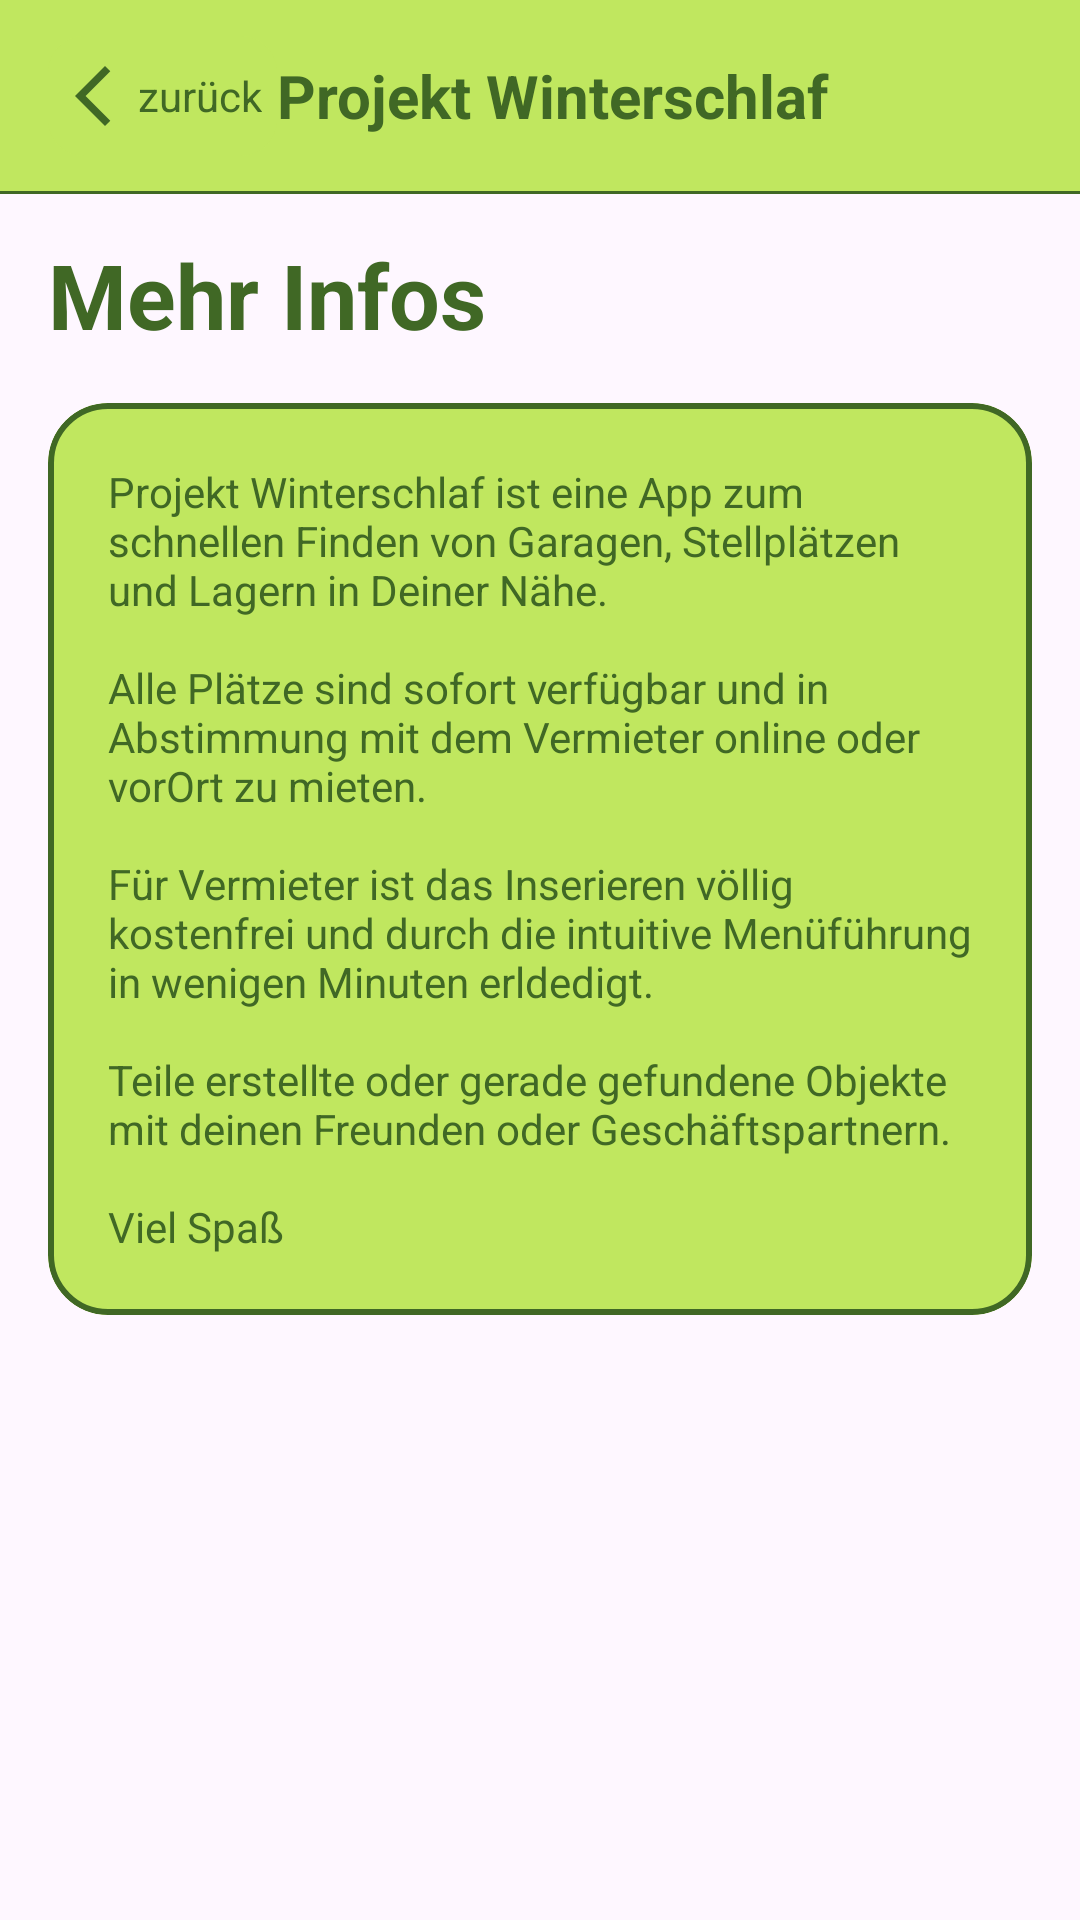

Where icons sit on this 1080 x 1920 app screen, as (x1, y1, x2, y2):
back: (75, 66, 110, 126)
